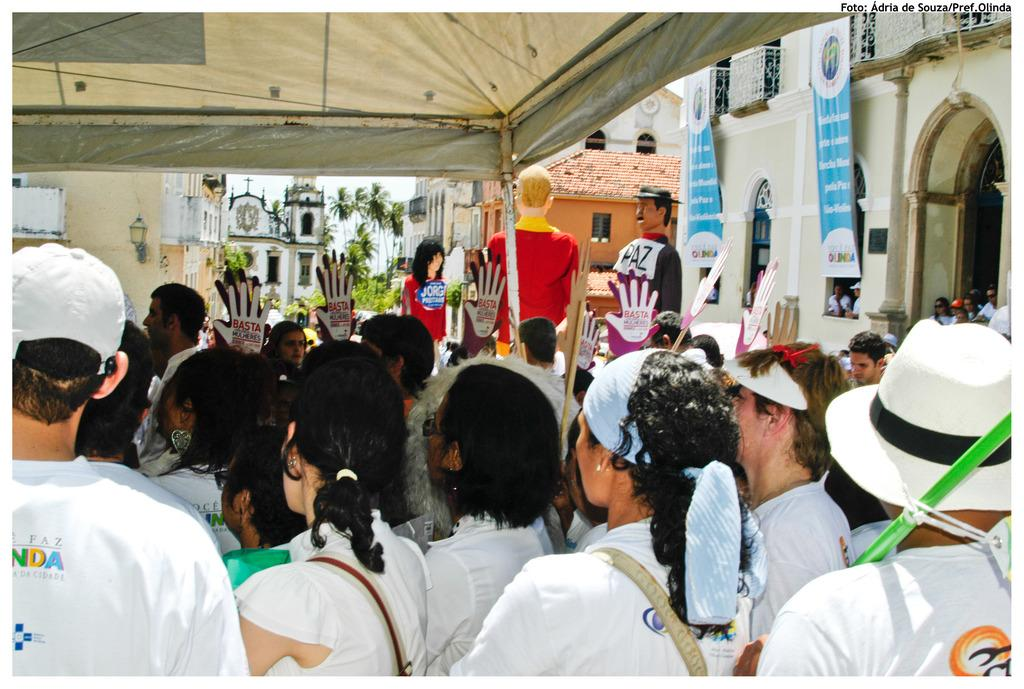Hat: (822, 321, 1012, 511), (10, 238, 128, 378), (636, 186, 680, 202)
